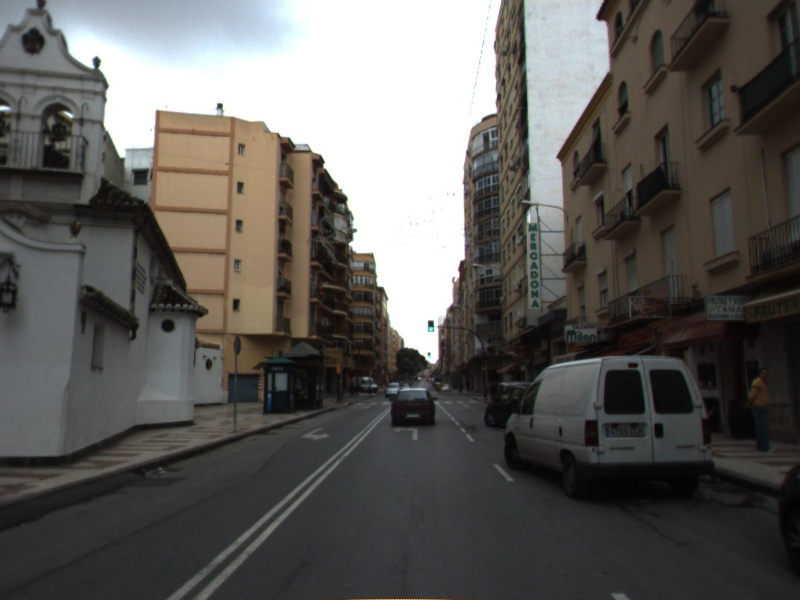LEFT: (391, 425, 419, 442)
